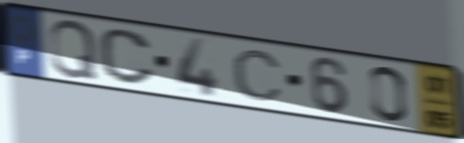0: (368, 65, 409, 123)
4: (173, 34, 224, 100)
6: (308, 56, 351, 115)
C: (97, 27, 159, 88), (230, 48, 286, 103)
Q: (47, 18, 100, 82)
